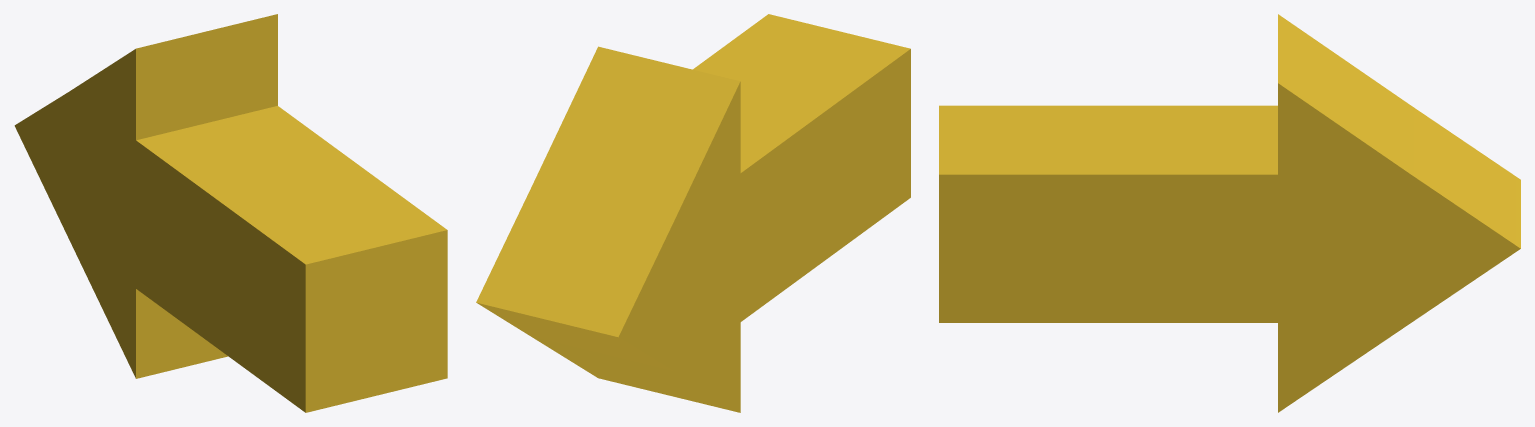
The model's file is yajirushi.fbx.
The picture shows the model from 3 angles, left to right: view 1: azimuth 30°, elevation 25°; view 2: azimuth 150°, elevation 25°; view 3: azimuth 270°, elevation 25°; orthographic projection.
Parts seen in each view (by area): view 1: Cube; view 2: Cube; view 3: Cube.
Part boxes in pixels (bbox=[...]): Cube: bbox=[14, 14, 447, 412]; Cube: bbox=[476, 14, 910, 412]; Cube: bbox=[939, 14, 1520, 412].
Size of the model in its own units: 200 by 445 by 712.
